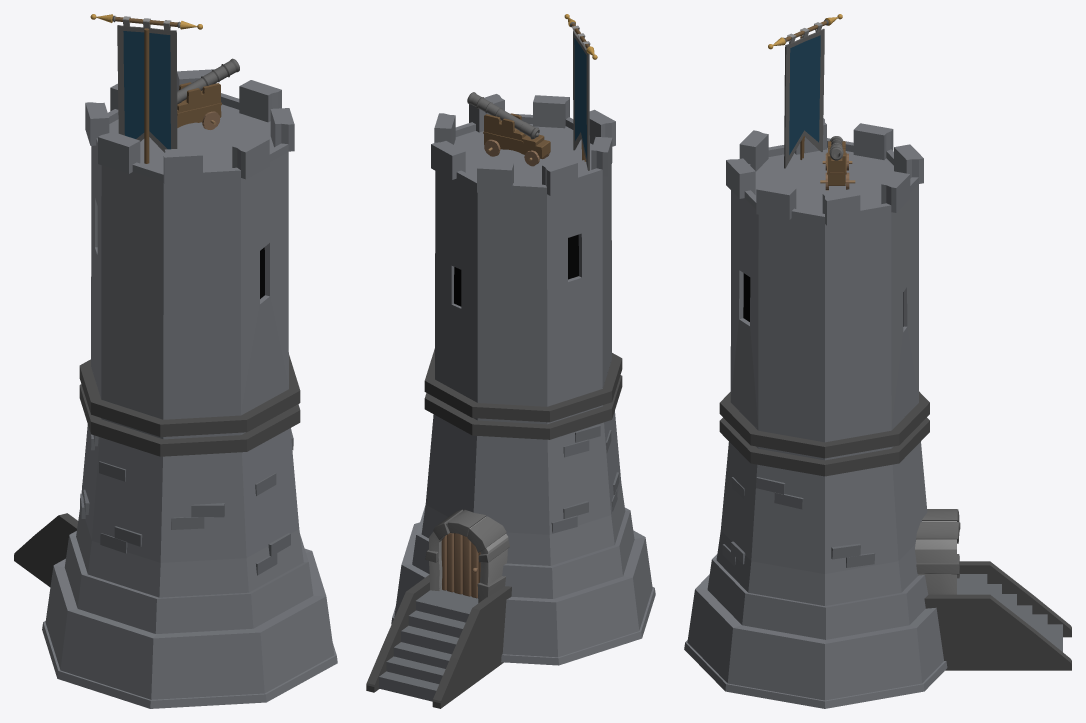
File: Tower2.fbx
3 views of the same model, side by side, from view 1: azimuth 30°, elevation 25°; view 2: azimuth 150°, elevation 25°; view 3: azimuth 270°, elevation 25° (orthographic). The views are drawn at different scales.
Visible parts, largest first — view 1: Circle.001, Circle.003, Cube.020, Circle.005, Cube.002, Cylinder.001; view 2: Circle.001, Circle.003, Cube.002, Plane.001, Circle.005, Cube.001, Circle.011, Cube.020, Circle.007, Plane; view 3: Circle.001, Cube.002, Circle.003, Cube.020, Circle.007, Cube.001, Plane.001, Circle.005, Plane.
Boxes of the visible parts, x1,y1,x2,y2 form: Circle.001: (42, 69, 337, 708); Circle.003: (79, 355, 300, 456); Cube.020: (117, 16, 177, 152); Circle.005: (177, 58, 239, 129); Cube.002: (14, 513, 78, 586); Cylinder.001: (144, 28, 149, 163); Circle.001: (391, 94, 655, 665); Circle.003: (424, 348, 622, 439); Cube.002: (366, 574, 511, 708); Plane.001: (379, 601, 469, 701); Circle.005: (467, 92, 550, 166); Cube.001: (425, 509, 509, 603); Circle.011: (441, 533, 480, 598); Cube.020: (572, 25, 590, 170); Circle.007: (429, 516, 508, 590); Plane: (416, 589, 478, 613); Circle.001: (684, 118, 947, 708); Cube.002: (924, 561, 1071, 670); Circle.003: (719, 391, 929, 476); Cube.020: (784, 22, 824, 168); Circle.007: (915, 521, 956, 594); Cube.001: (916, 509, 960, 578); Plane.001: (987, 584, 1062, 651); Circle.005: (820, 136, 855, 190); Plane: (957, 574, 987, 594).
Size of the model in its own units: 951 by 2237 by 1310.
